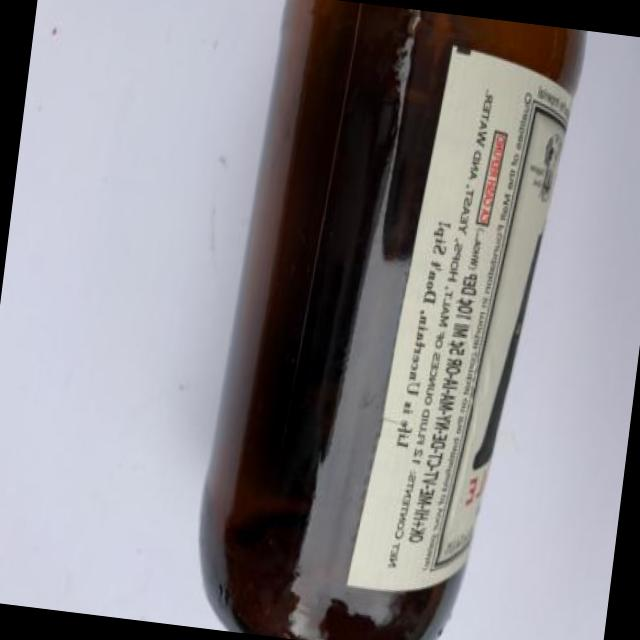chai_thuy_tinh: (201, 0, 588, 640)
